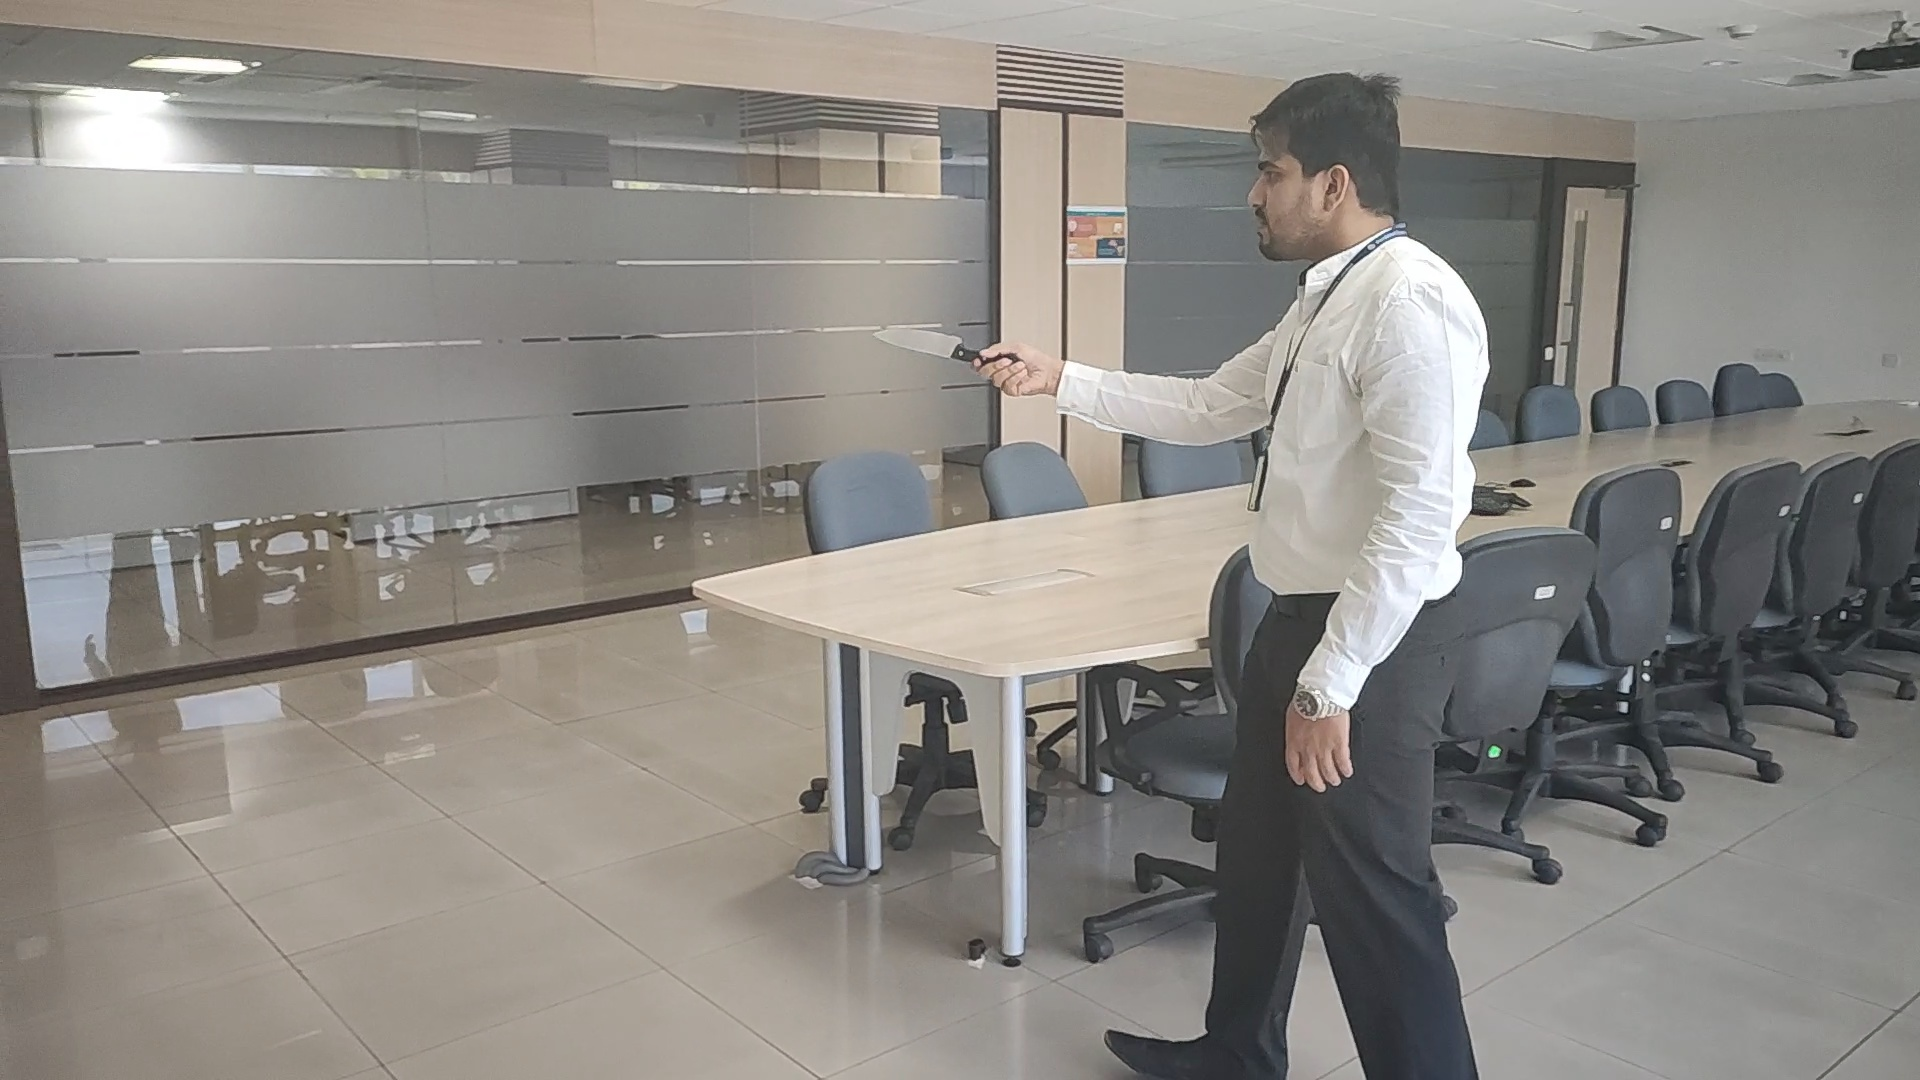knife: (870, 328, 971, 363)
